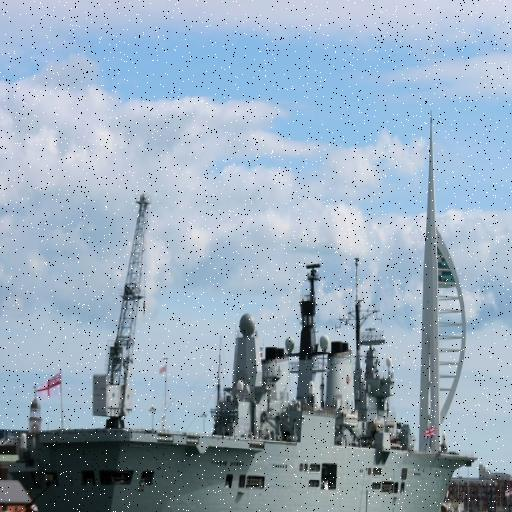Portanaves: (4, 252, 479, 512)
